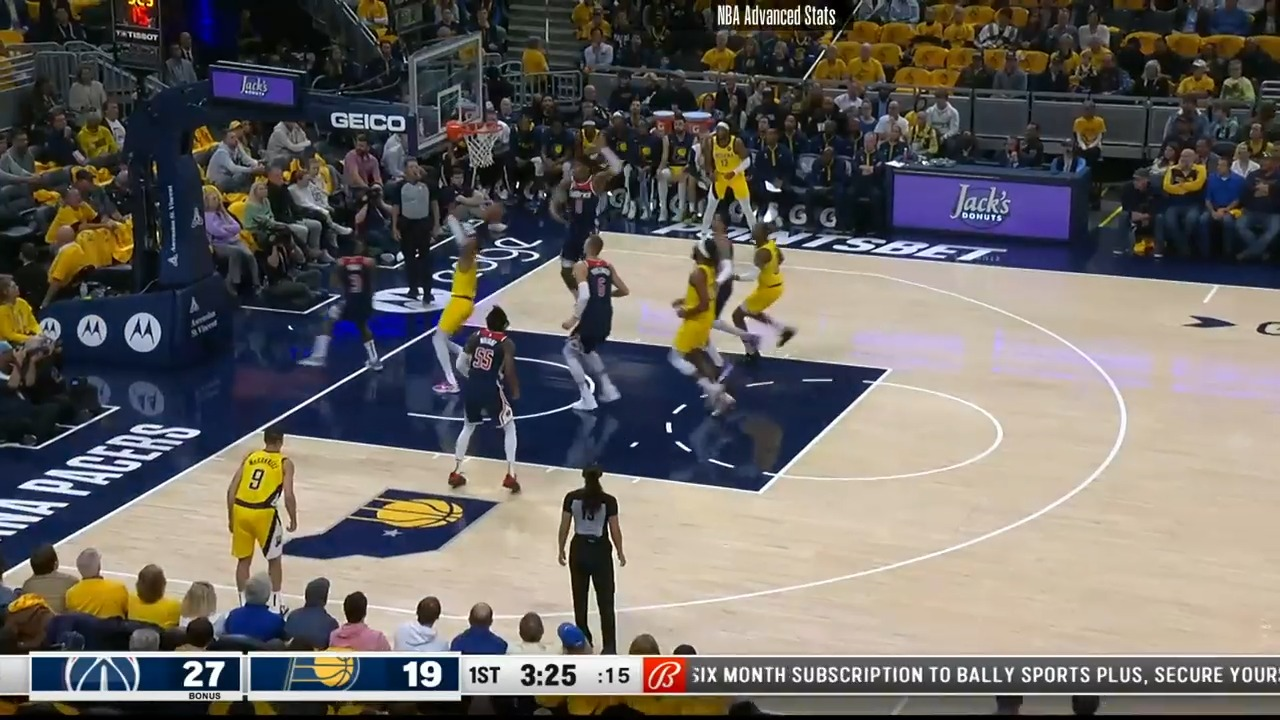net: (444, 115, 506, 172)
player: (440, 303, 522, 499), (427, 187, 502, 392), (549, 229, 629, 415), (226, 425, 307, 605), (662, 232, 739, 421), (307, 218, 393, 379), (723, 217, 799, 365), (550, 142, 608, 309), (694, 117, 753, 252), (698, 207, 741, 349)
referee: (553, 463, 630, 656), (390, 158, 448, 312)
